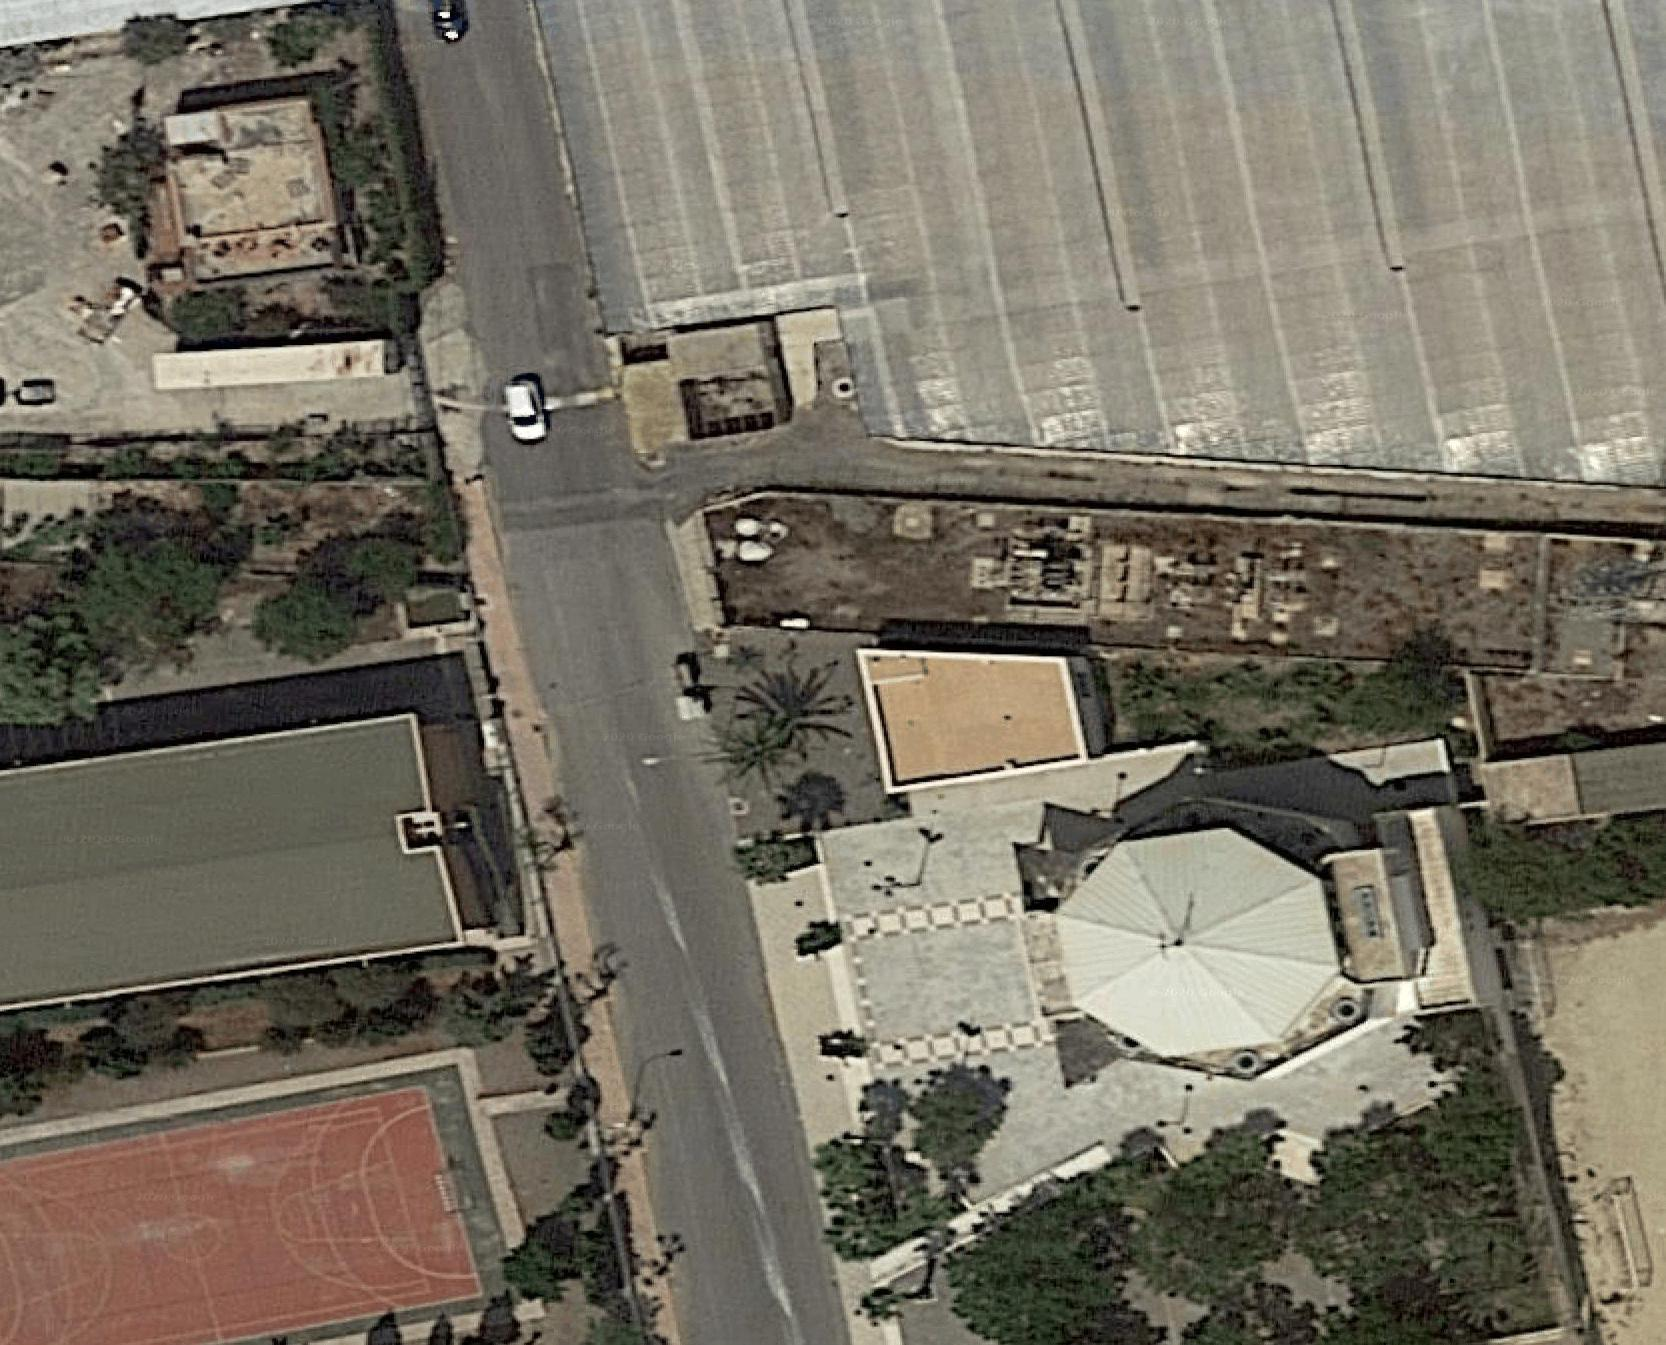substation: (961, 506, 1348, 655)
